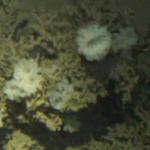dead: (1, 5, 148, 149)
